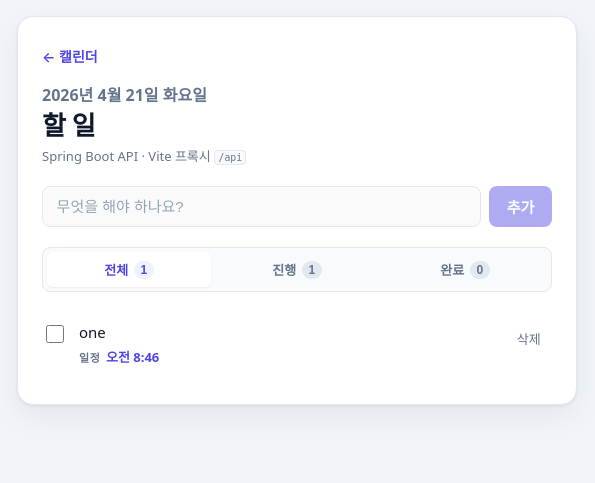
Test: TodoDayPage › shows update error
Expected: the text "one" is shown, [79,322,106,342]
What coordinates should you click on to do the following:
click the checkbox named "완료: one"
I would click on:
 (55, 334)
Its box is [46,325,64,343].
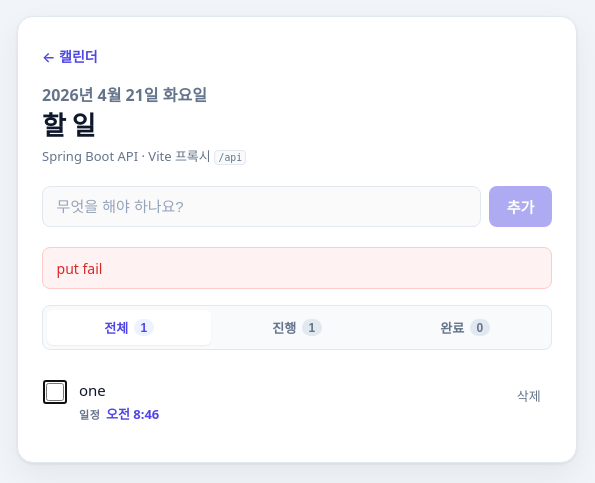
Expected: the message reads "put fail", [57,259,102,278]
